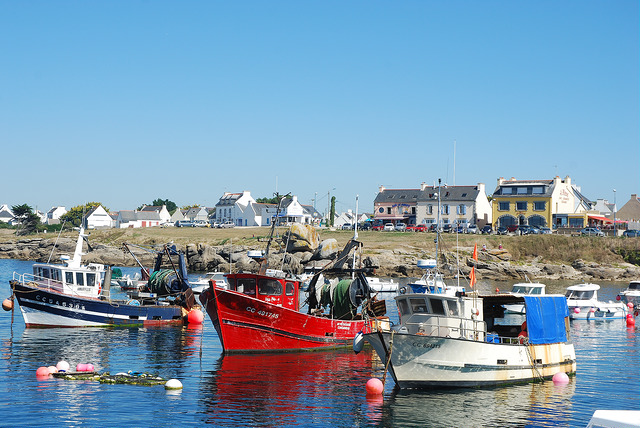boat: (570, 277, 630, 325)
fishing_boat: (369, 251, 583, 396), (198, 216, 368, 349), (11, 208, 190, 330)
